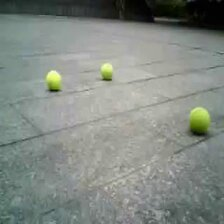tennis: (188, 108, 210, 132), (46, 70, 62, 89), (101, 64, 115, 79)
